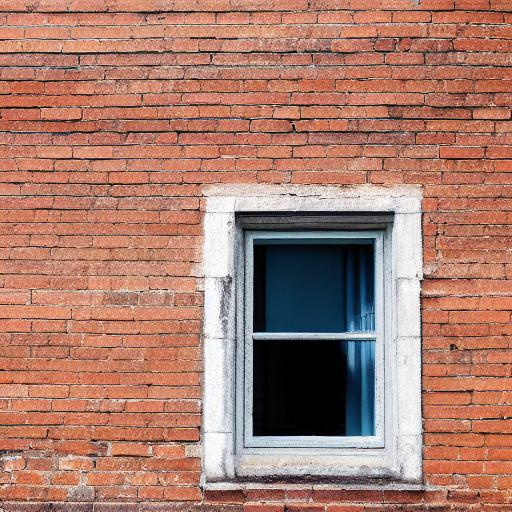Window: (194, 184, 431, 497)
